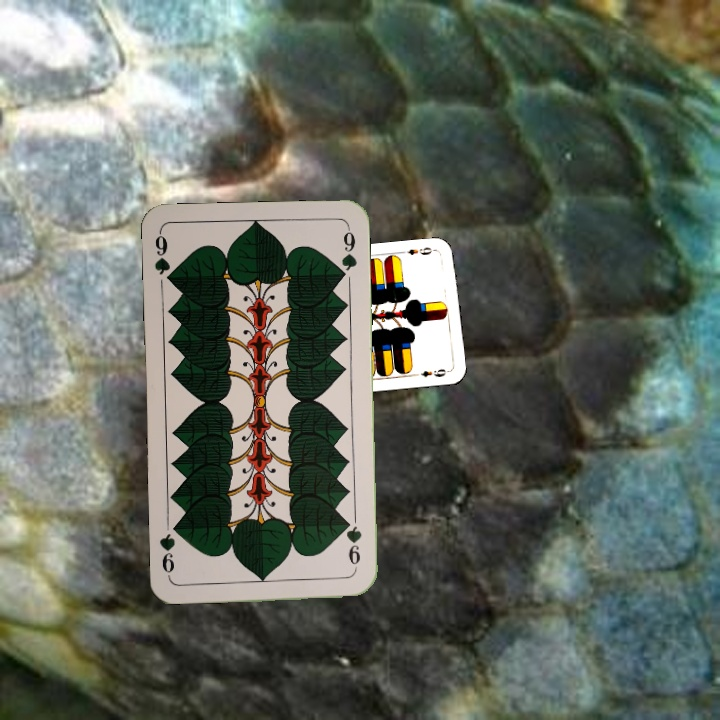E9: (398, 243, 438, 257)
G9: (150, 229, 177, 288), (341, 515, 364, 573)
